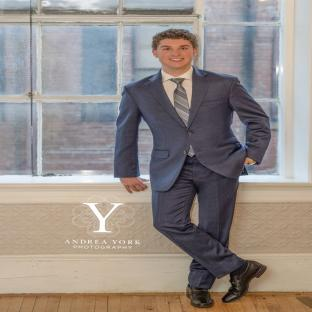Human: (114, 29, 270, 307)
